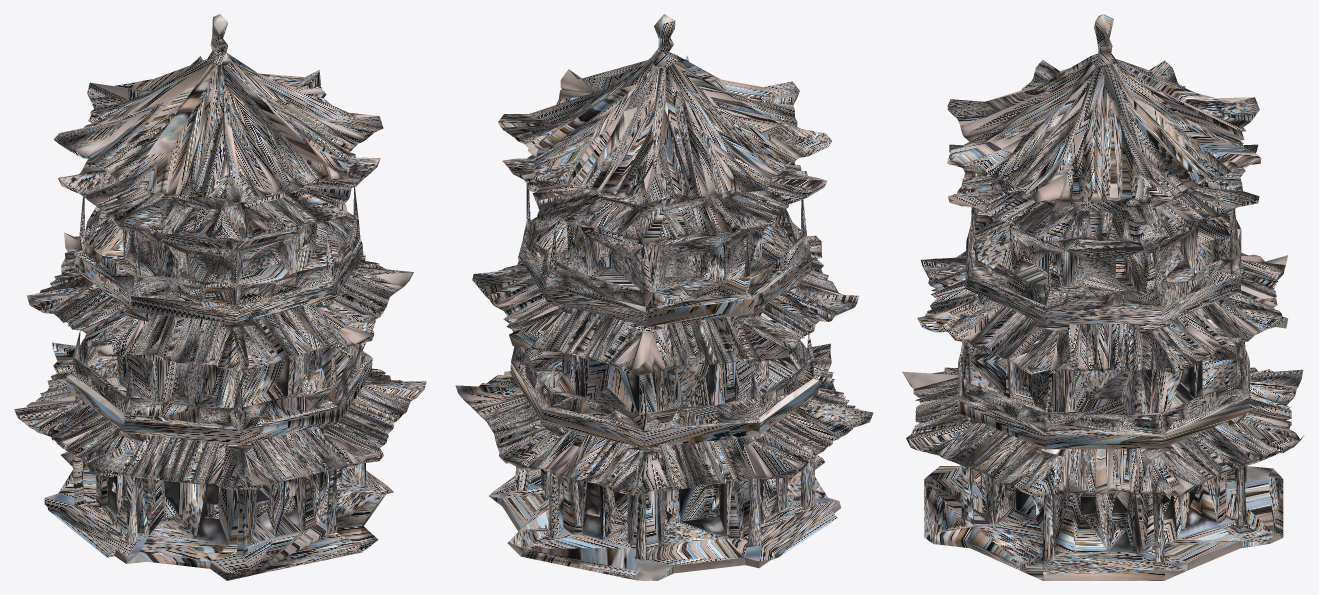
The model's file is lib_pagoda5.lod.glb.
The picture shows the model from 3 angles, left to right: view 1: azimuth 30°, elevation 25°; view 2: azimuth 150°, elevation 25°; view 3: azimuth 270°, elevation 25°; orthographic projection. The views are drawn at different scales.
Parts seen in each view (by area): view 1: output_unwrapped; view 2: output_unwrapped; view 3: output_unwrapped.
Boxes of the visible parts, left/top/right/bottom form: output_unwrapped: left=14, top=14, right=426, bottom=580; output_unwrapped: left=455, top=14, right=873, bottom=580; output_unwrapped: left=902, top=14, right=1304, bottom=580.
Size of the model in its own units: 1.32 by 1.81 by 1.33.
Materials: 1 (1 with a texture image).
